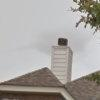Chimney: (48, 29, 73, 82)
